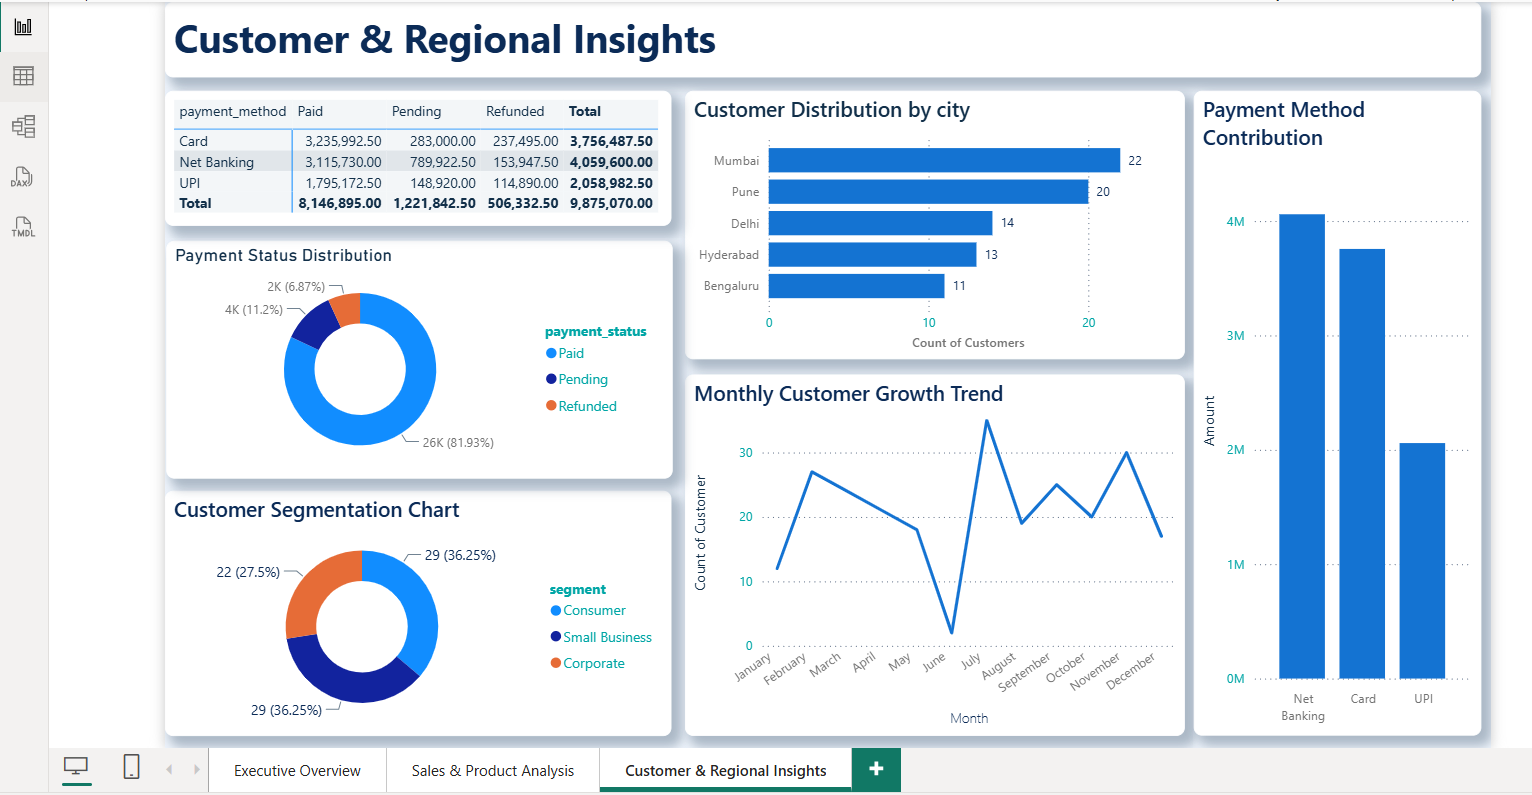

This screenshot's page, from the dashboard's own definition file:
{"tool":"powerbi","page":{"name":"Customer & Regional Insights","canvas":[1280,720],"ordinal":2},"visuals":[{"type":"textbox","box":[0,0,1270,72.5],"z":0},{"type":"donutChart","title":"Customer Segmentation Chart","fields":{"Y":["CountNonNull(customers.customer_id)"],"Category":["customers.segment"]},"box":[0,471.7,488.6,236.5],"z":2000},{"type":"clusteredBarChart","title":"Customer Distribution by city","fields":{"Category":["customers.city"],"Y":["CountNonNull(customers.customer_id)"]},"box":[501.9,85.7,482.6,259.4],"z":3000},{"type":"lineChart","title":"Monthly Customer Growth Trend","fields":{"Category":["customers.signup_date.Variation.Date Hierarchy.Month"],"Y":["CountNonNull(orders.customer_id)"]},"box":[501.9,359.5,482.6,348.7],"z":4000},{"type":"clusteredColumnChart","title":"Payment Method Contribution","fields":{"Category":["payments.payment_method"],"Y":["Sum(payments.amount)"]},"box":[992.9,85.7,277.5,622.5],"z":4001},{"type":"donutChart","title":"Payment Status Distribution","fields":{"Y":["Sum(payments.payment_id)"],"Category":["payments.payment_status"]},"box":[1.2,230.4,488.6,229.2],"z":4002},{"type":"pivotTable","fields":{"Rows":["payments.payment_method"],"Columns":["payments.payment_status"],"Values":["Sum(payments.amount)"]},"box":[0,85.7,488.6,130.3],"z":4003}]}

Visuals, with their boxes on the page's 1280x720 design canvas (x1, y1, x2, y2). These are canvas units, not pixel positions in the 1532x795 screenshot, which may show the page scaled, cropped or inside an application window:
textbox: [x1=0, y1=0, x2=1270, y2=72]
"Customer Segmentation Chart" donutChart: [x1=0, y1=472, x2=489, y2=708]
"Customer Distribution by city" clusteredBarChart: [x1=502, y1=86, x2=984, y2=345]
"Monthly Customer Growth Trend" lineChart: [x1=502, y1=360, x2=984, y2=708]
"Payment Method Contribution" clusteredColumnChart: [x1=993, y1=86, x2=1270, y2=708]
"Payment Status Distribution" donutChart: [x1=1, y1=230, x2=490, y2=460]
pivotTable - payments.payment_method x payments.payment_status: [x1=0, y1=86, x2=489, y2=216]
